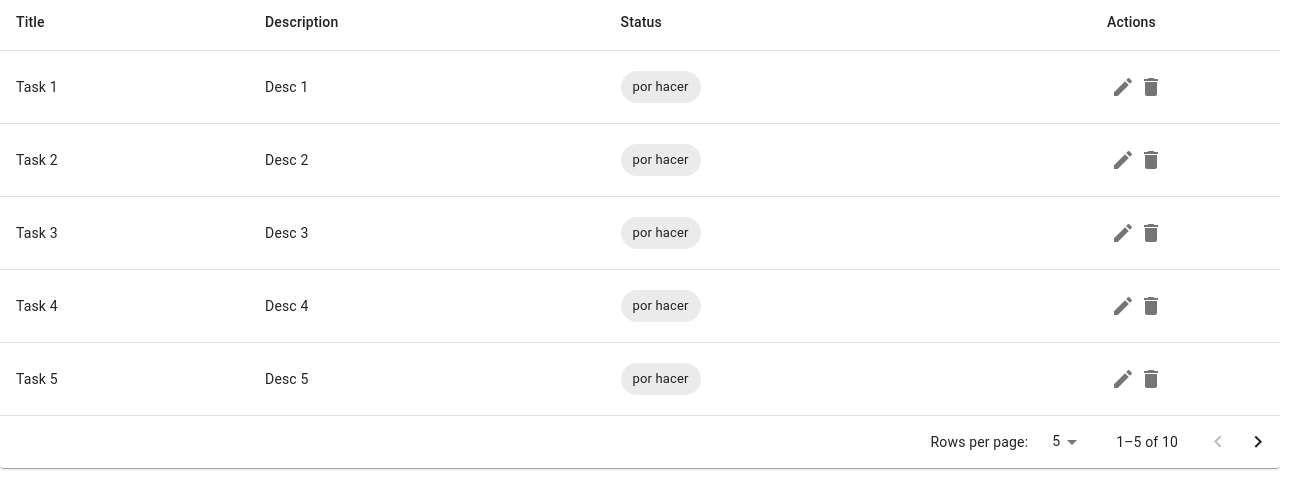
TaskList Component › allows switching pages
This screenshot has width=1292, height=487.
Check: the column heading "Task 1" is shown, box [0,50,249,124]
Check: the text "Task 6" is not shown
Click the button named "Go to next page" at (1258, 442), box [1238,422,1278,462]
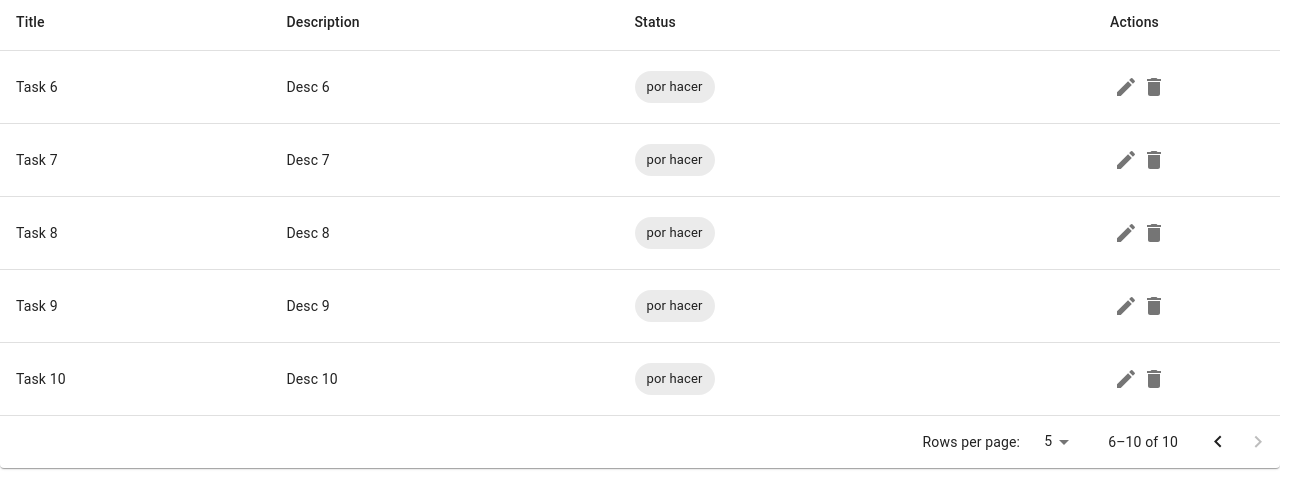
Check: the column heading "Task 6" is shown, box [0,50,270,124]
Check: the column heading "Task 10" is shown, box [0,342,270,416]
